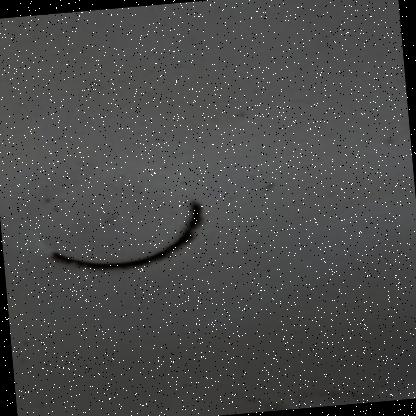Crack: (17, 180, 250, 307)
